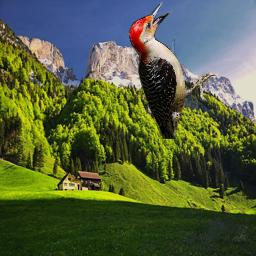Woodpecker: (129, 2, 219, 139)
